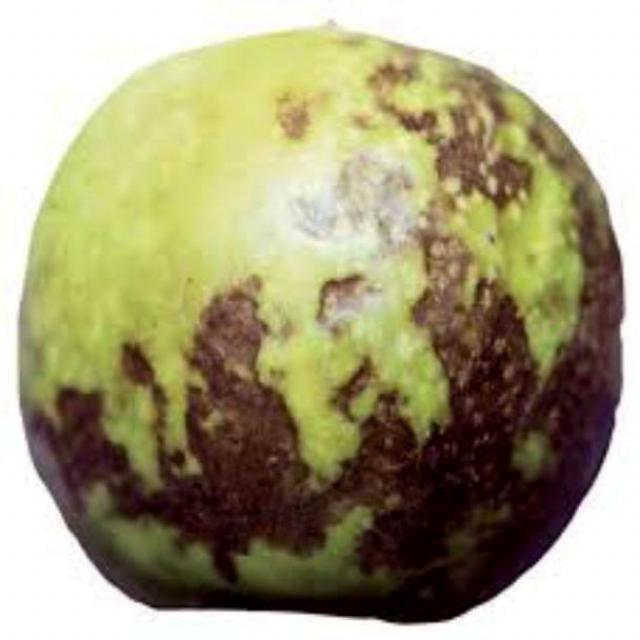BLOTCH: (12, 23, 626, 631)
